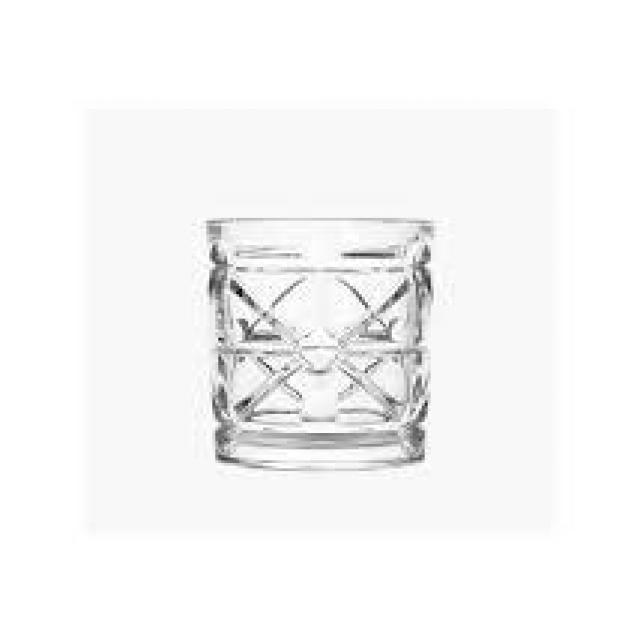non-organic waste: (203, 214, 437, 475)
